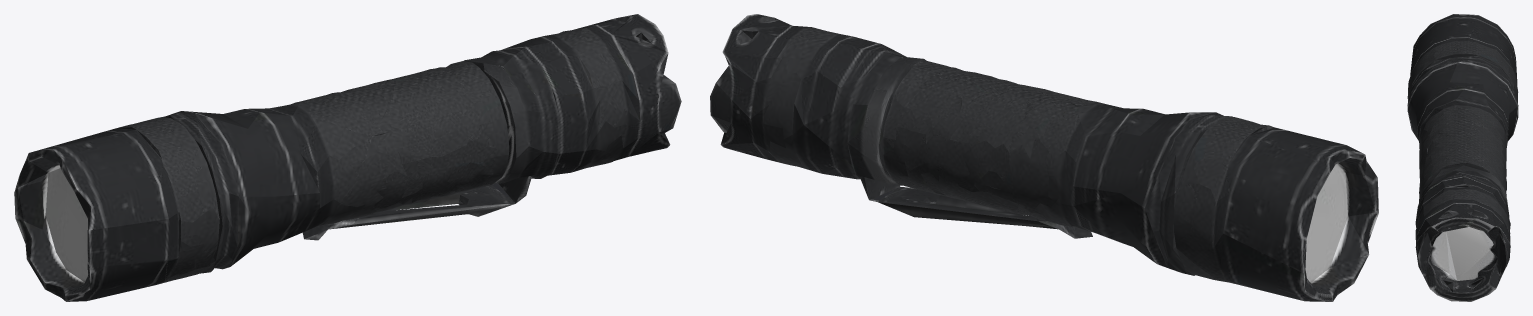
The model's file is district-flashlight.glb.
3 renders of one model, left to right at view 1: azimuth 30°, elevation 25°; view 2: azimuth 150°, elevation 25°; view 3: azimuth 270°, elevation 25°, orthographic. The views are drawn at different scales.
Parts seen in each view (by area): view 1: output_unwrapped; view 2: output_unwrapped; view 3: output_unwrapped.
Part boxes in pixels (x1,y1,x2,y2): output_unwrapped: [14, 14, 681, 301]; output_unwrapped: [710, 14, 1378, 301]; output_unwrapped: [1407, 14, 1518, 301].
Bounding box in the file's own units: 1.9 × 0.4782 × 0.4488.
Materials: 1 (1 with a texture image).
